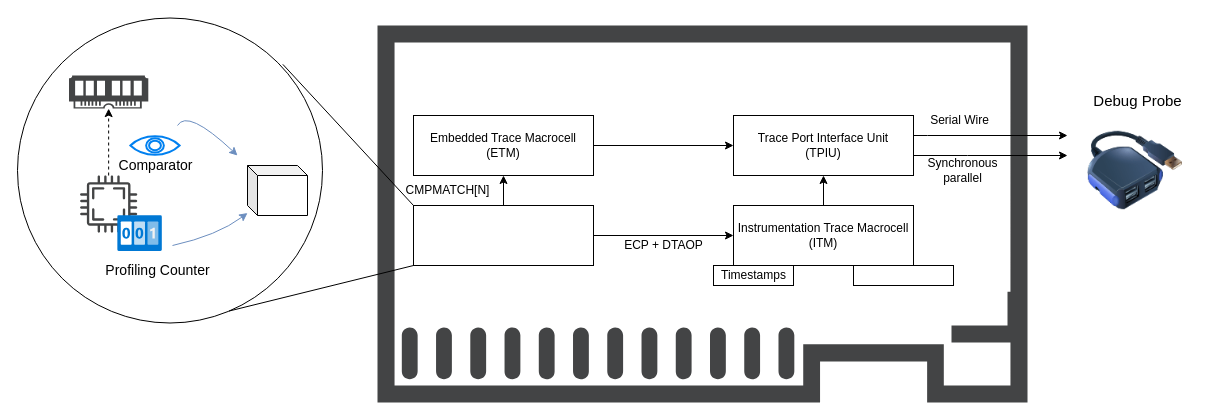
Some shapes in this 1205 by 419 pixel diagram are drawn without their labels. The centre of each missing label's shape, as x and y in pixels:
Data Watchpoint and Trace unit (DWT): the point at 503,235
Synchronization: the point at 903,275
